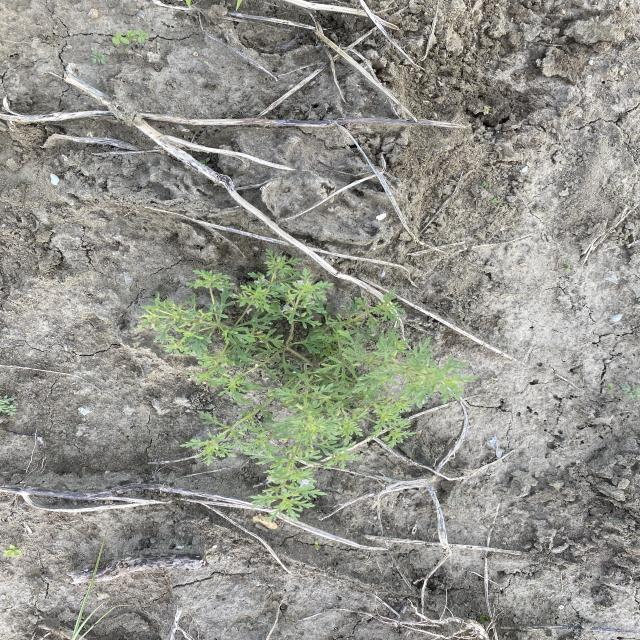Ragweed: (134, 248, 482, 526)
